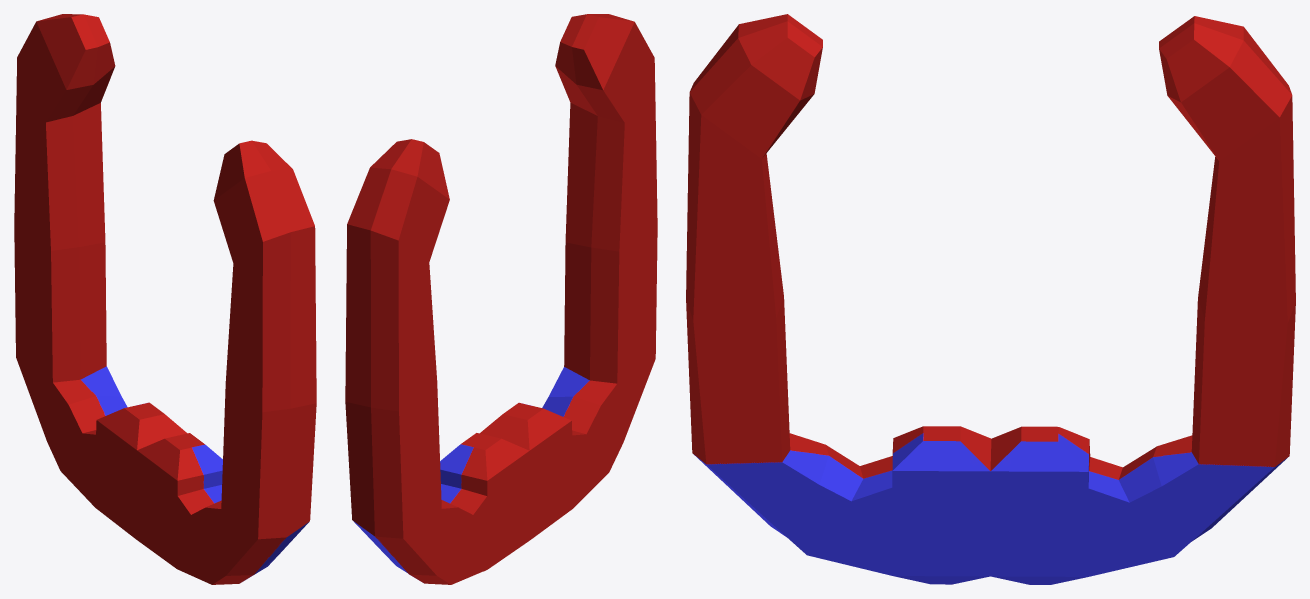
File: RedShip21.fbx
The picture shows the model from 3 angles, left to right: view 1: azimuth 30°, elevation 25°; view 2: azimuth 150°, elevation 25°; view 3: azimuth 270°, elevation 25°; orthographic projection. The views are drawn at different scales.
Visible parts, largest first — view 1: Cube; view 2: Cube; view 3: Cube.
Boxes of the visible parts, box(x1,y1,x2,y2) form: Cube: box(14, 14, 316, 584); Cube: box(345, 14, 657, 584); Cube: box(686, 14, 1295, 584).
Size of the model in its own units: 88.07 by 632 by 622.
1 material, 1 textured.
